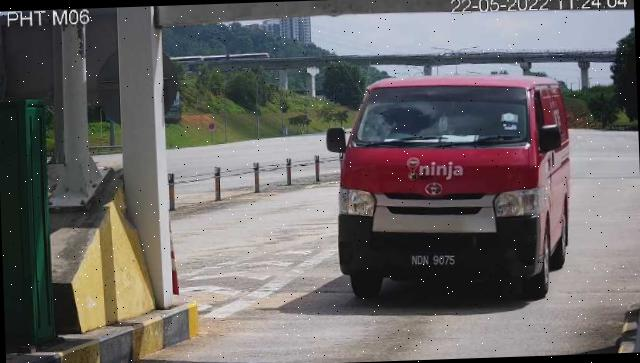License_Plate: (407, 251, 461, 273)
van: (334, 71, 575, 305)
